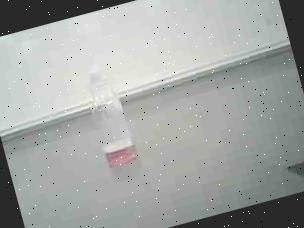hazard: (67, 52, 144, 174)
